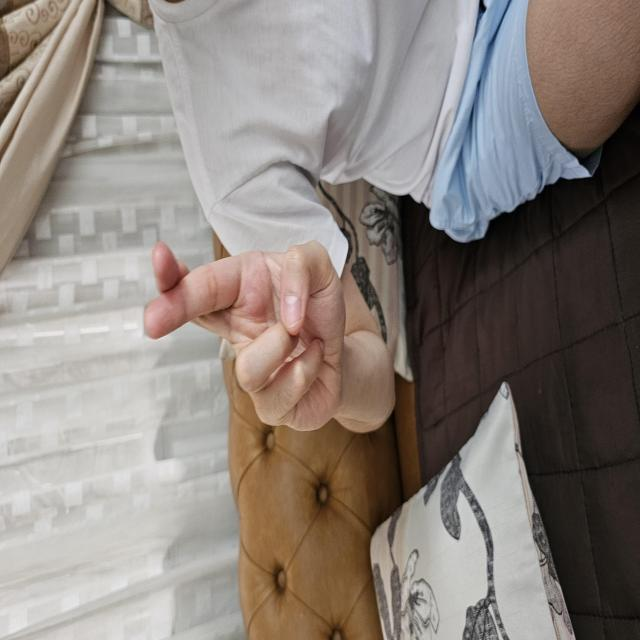R: (209, 142, 405, 346)
